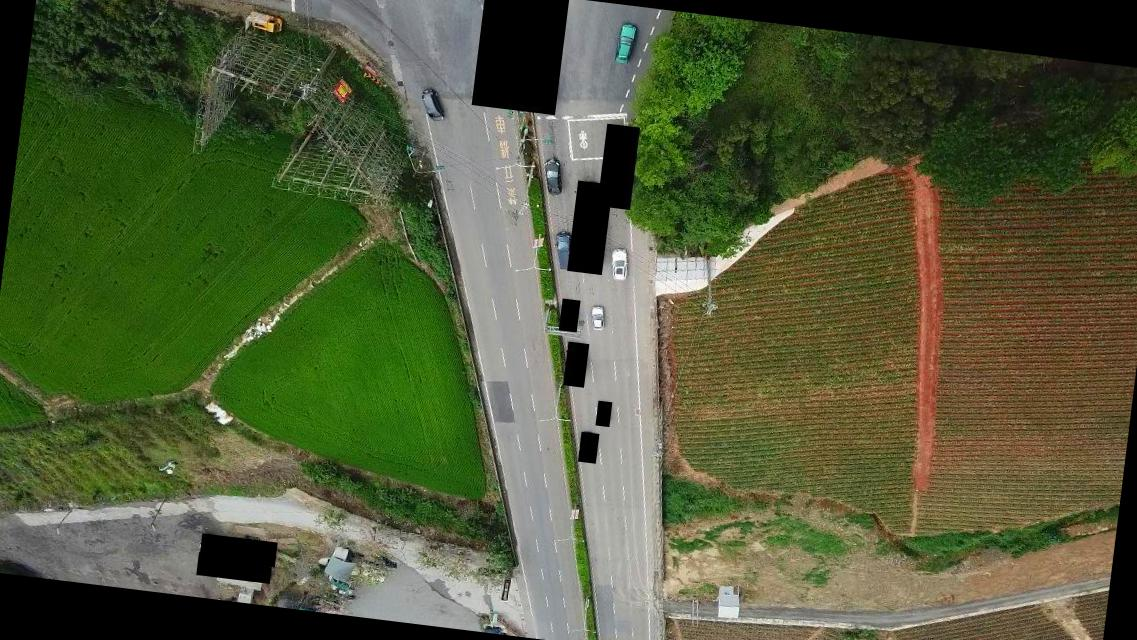vehicle: (550, 228, 576, 271), (539, 156, 565, 199), (612, 22, 638, 65), (418, 88, 447, 124), (247, 11, 284, 35), (607, 246, 629, 282), (589, 306, 606, 334)
